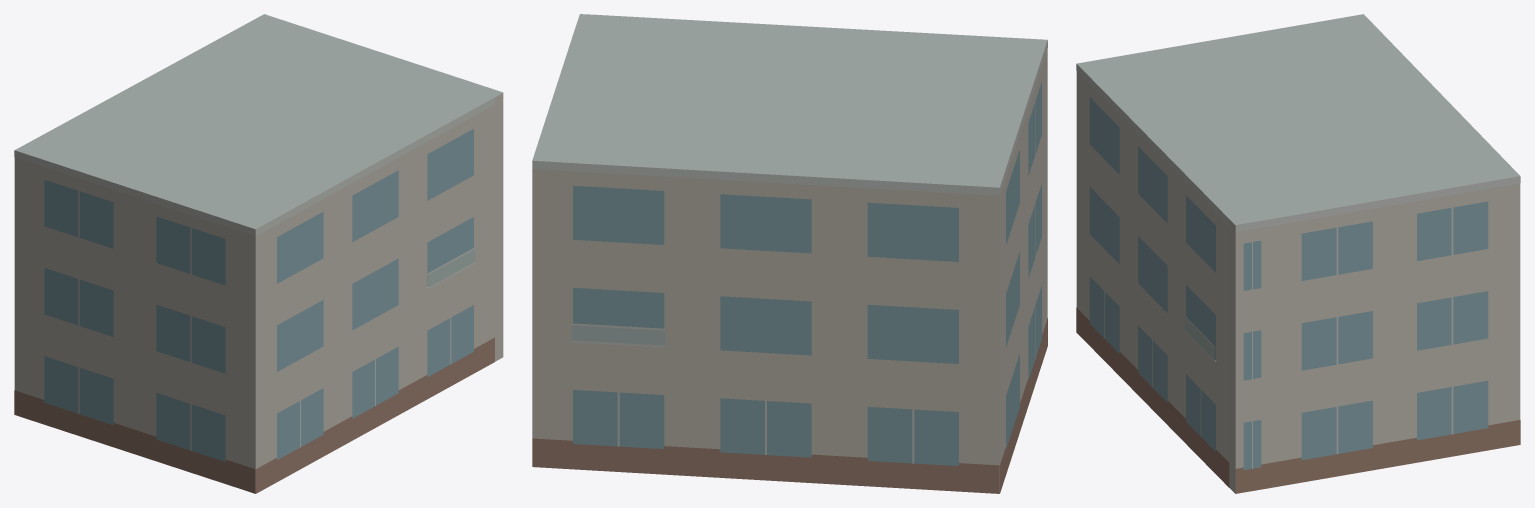
File: survey-upis-32720472.glb
3 views of the same model, side by side, from view 1: azimuth 30°, elevation 25°; view 2: azimuth 150°, elevation 25°; view 3: azimuth 270°, elevation 25° (orthographic). The views are drawn at different scales.
Parts seen in each view (by area): view 1: survey-upis-32720472.tmp; view 2: survey-upis-32720472.tmp; view 3: survey-upis-32720472.tmp.
Part boxes in pixels (x1,y1,x2,y2): survey-upis-32720472.tmp: (14,14,503,493); survey-upis-32720472.tmp: (532,14,1047,493); survey-upis-32720472.tmp: (1076,14,1520,493).
Bounding box in the file's own units: 15.42 × 9.15 × 13.71.
